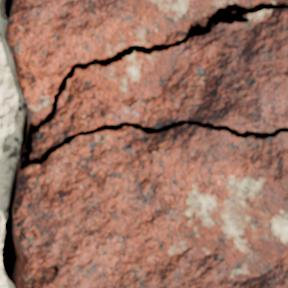brick: (14, 125, 287, 287), (31, 9, 287, 157), (5, 0, 287, 123)
crack: (0, 2, 287, 286), (0, 0, 14, 20)
